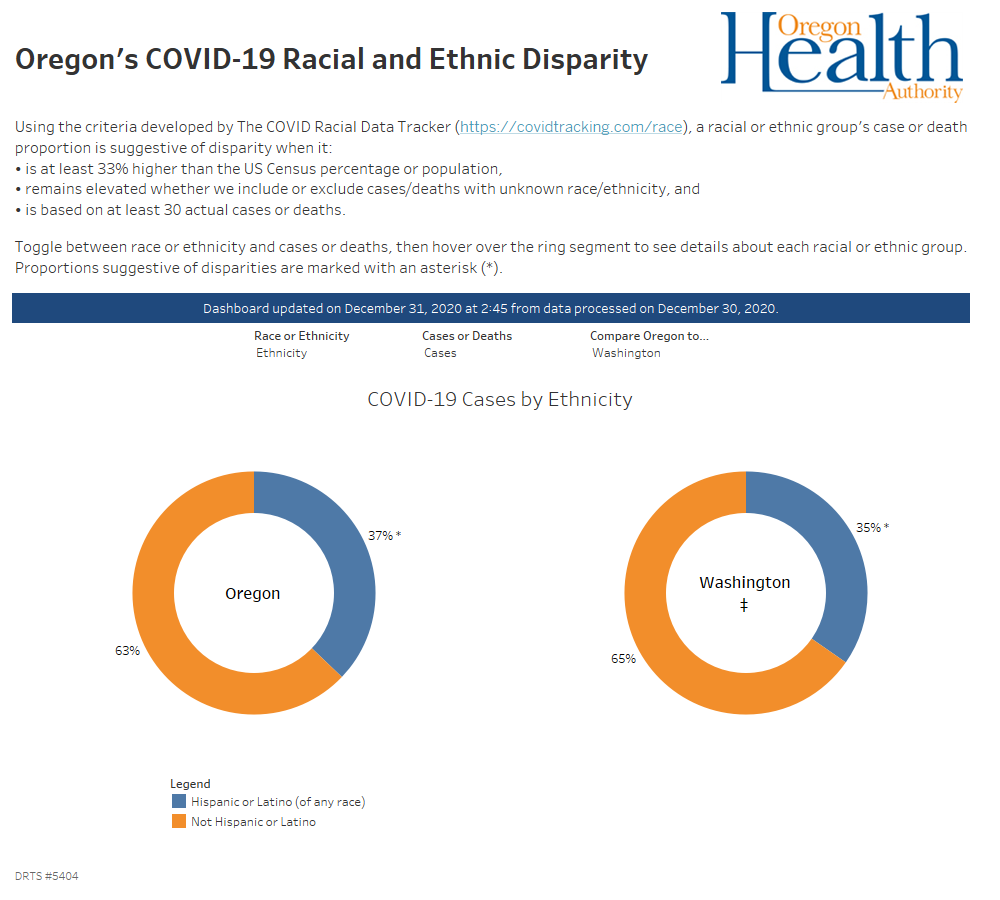

This screenshot's page, from the dashboard's own definition file:
{"tool":"tableau","page":{"name":"Disparity Dashboard","canvas":[1000,900],"ordinal":0},"visuals":[{"type":"text","box":[8,8,684,99]},{"type":"image","param":"I:/Health Analytics/Staff_folders/B_Chan/Covid19 Racial Disparities/oha_logo_sm.","box":[692,8,300,99]},{"type":"text","box":[8,107,984,182]},{"type":"worksheet","title":"Datestamp","mark":"Automatic","box":[8,289,984,33]},{"type":"blank","box":[8,322,242,52]},{"type":"filter","title":"Oregon","param":"[federated.16zkl9x1mqdqne149cqfx0d59wsf].[none:variable:nk]","box":[250,322,168,52]},{"type":"filter","title":"Oregon","param":"[federated.16zkl9x1mqdqne149cqfx0d59wsf].[none:metric:nk]","box":[418,322,168,52]},{"type":"filter","title":"Comparator","param":"[federated.16zkl9x1mqdqne149cqfx0d59wsf].[none:State_Name:nk]","box":[586,322,168,52]},{"type":"worksheet","title":"Title for Dashboard","mark":"Automatic","box":[8,374,984,43]},{"type":"worksheet","title":"Oregon","mark":"Pie","rows":["Number of Records","Number of Records"],"box":[8,417,492,352]},{"type":"worksheet","title":"Comparator","mark":"Pie","rows":["Number of Records","Number of Records"],"box":[500,417,492,352]},{"type":"blank","box":[8,769,157,91]},{"type":"legend","title":"Comparator","param":"[federated.16zkl9x1mqdqne149cqfx0d59wsf].[none:category:nk]","box":[165,769,827,91]},{"type":"text","box":[8,860,984,32]}]}

Visuals, with their boxes in screenshot pixels (x1, y1, x2, y2), scaled from the page's 1000x900 canvas onto the 1000x900 screenshot:
text: 8,8,692,107
image: 692,8,992,107
text: 8,107,992,289
"Datestamp" worksheet: 8,289,992,322
blank: 8,322,250,374
"Oregon" filter: 250,322,418,374
"Oregon" filter: 418,322,586,374
"Comparator" filter: 586,322,754,374
"Title for Dashboard" worksheet: 8,374,992,417
"Oregon" worksheet (Pie marks): 8,417,500,769
"Comparator" worksheet (Pie marks): 500,417,992,769
blank: 8,769,165,860
"Comparator" legend: 165,769,992,860
text: 8,860,992,892
